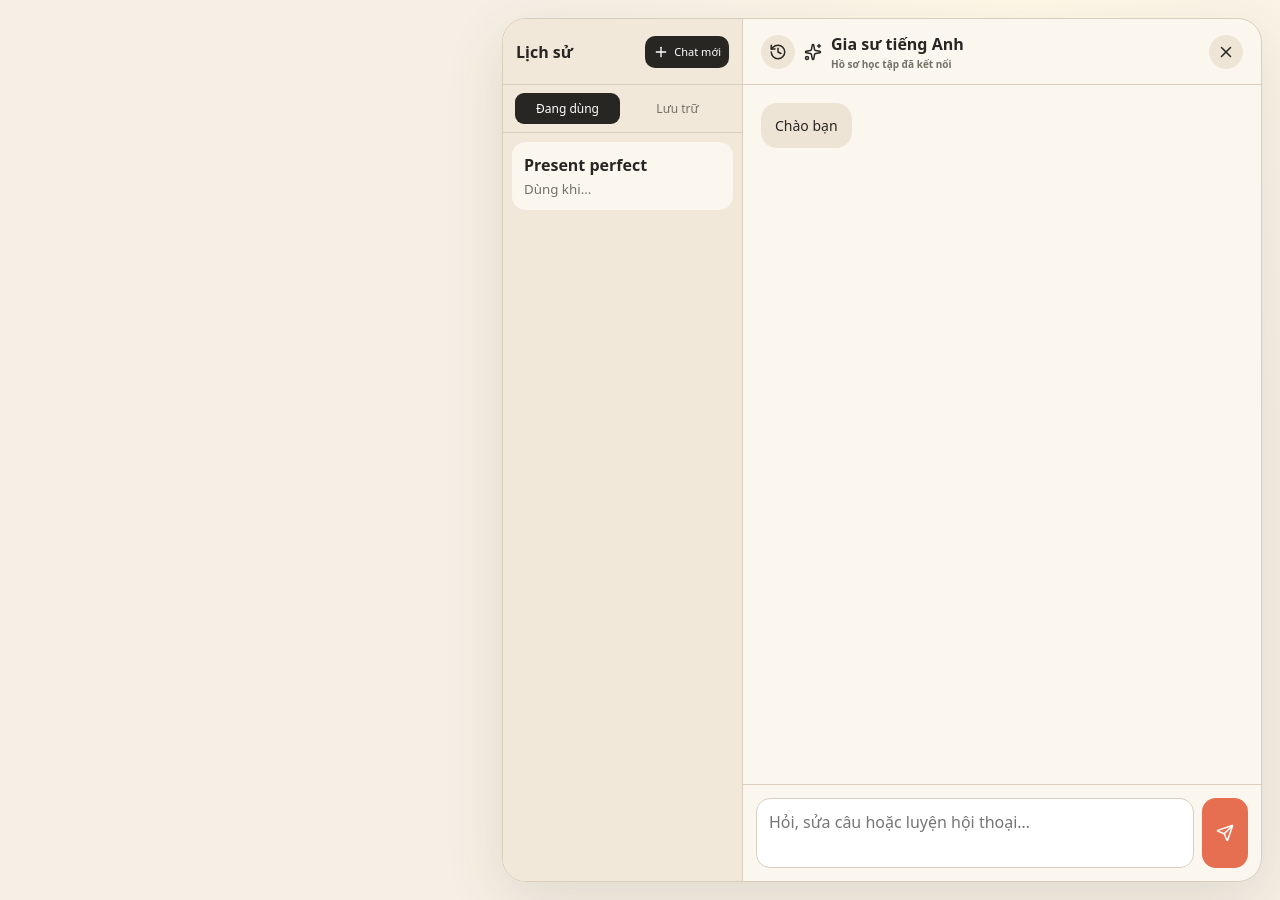
AgentDrawer › reloads persisted provider errors and retries same message
Expected: the text "Chào bạn" is shown, [761,103,852,148]
Type "alo" into the text box with placeholder "Hỏi, sửa câu hoặc luyện hội thoại…".
click(975, 833); type("alo")  # box [756,798,1194,868]
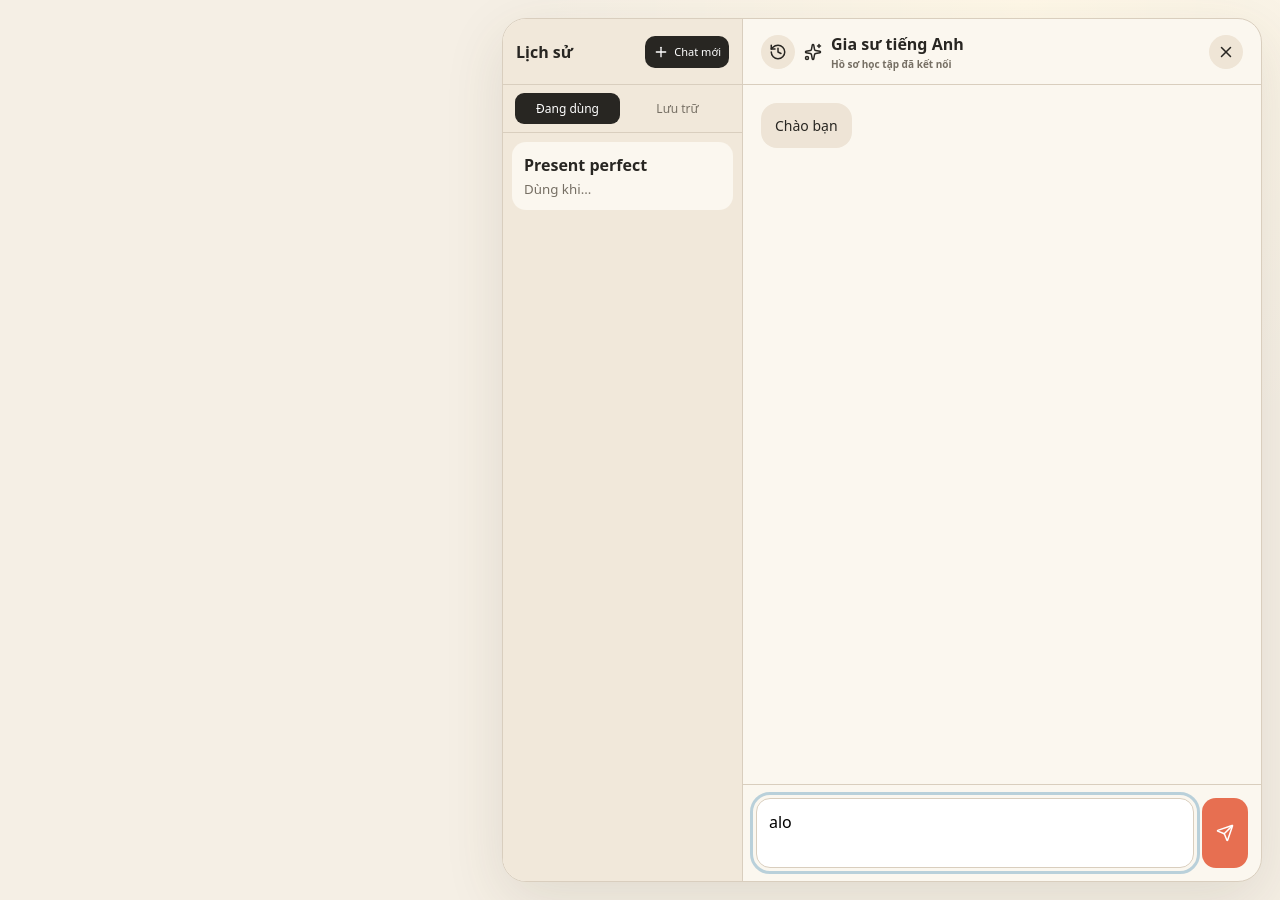
Click the button named "Gửi".
click(1225, 833)  # box [1202,798,1248,868]
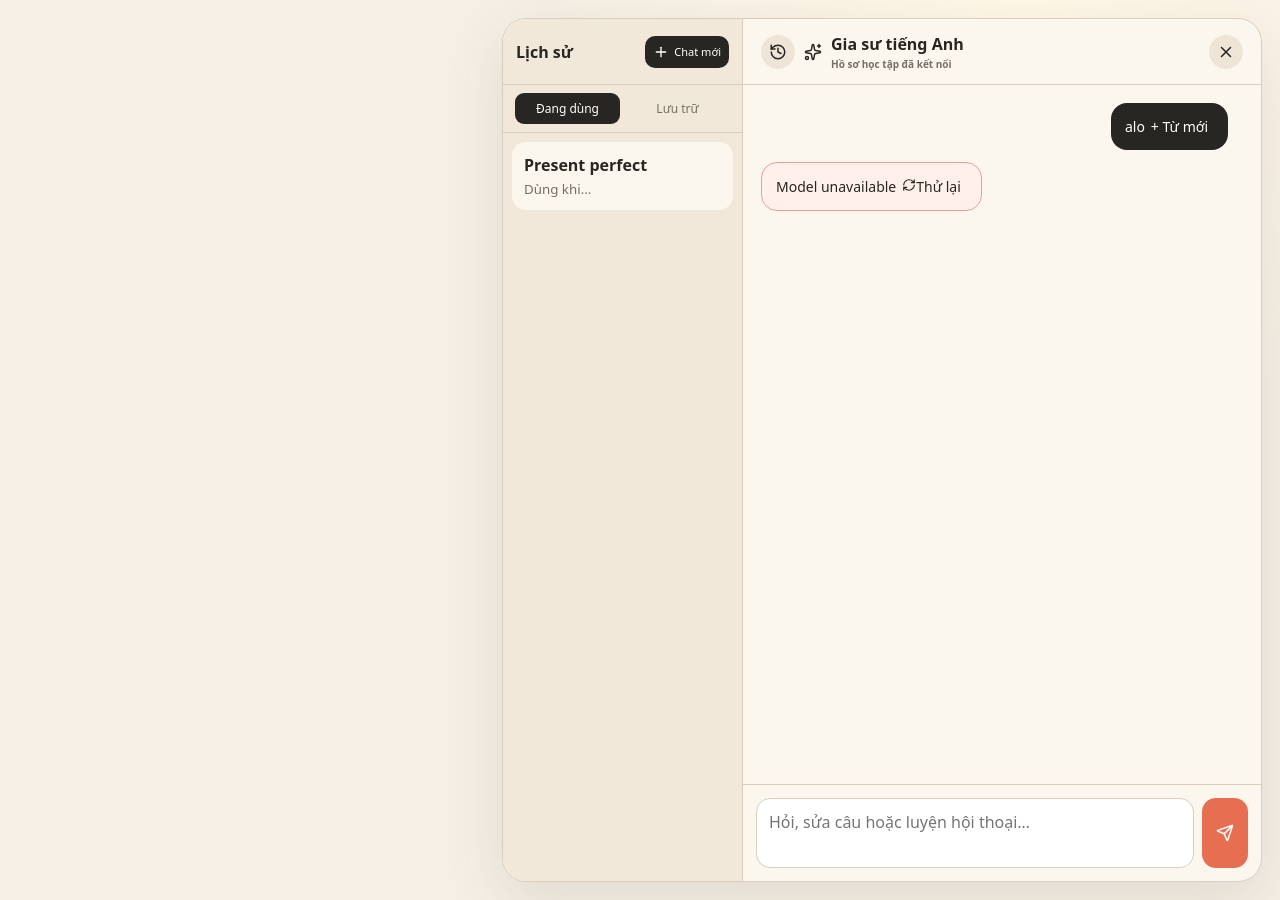
Expected: the text "Model unavailable" is shown, [776,177,896,196]
Click the button "Thử lại".
click(932, 186)  # box [896,175,967,198]
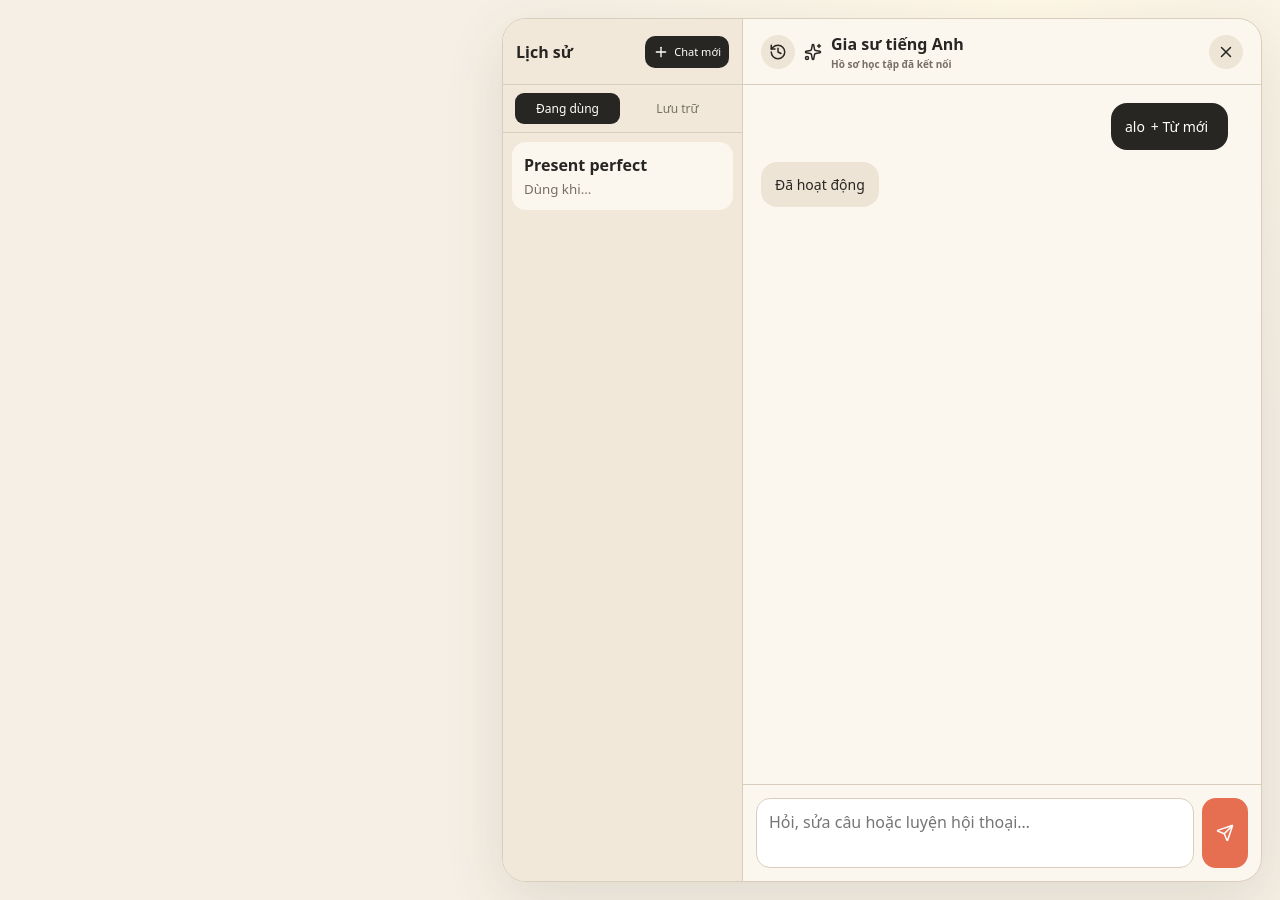
Expected: the text "Đã hoạt động" is shown, [761,162,879,207]
